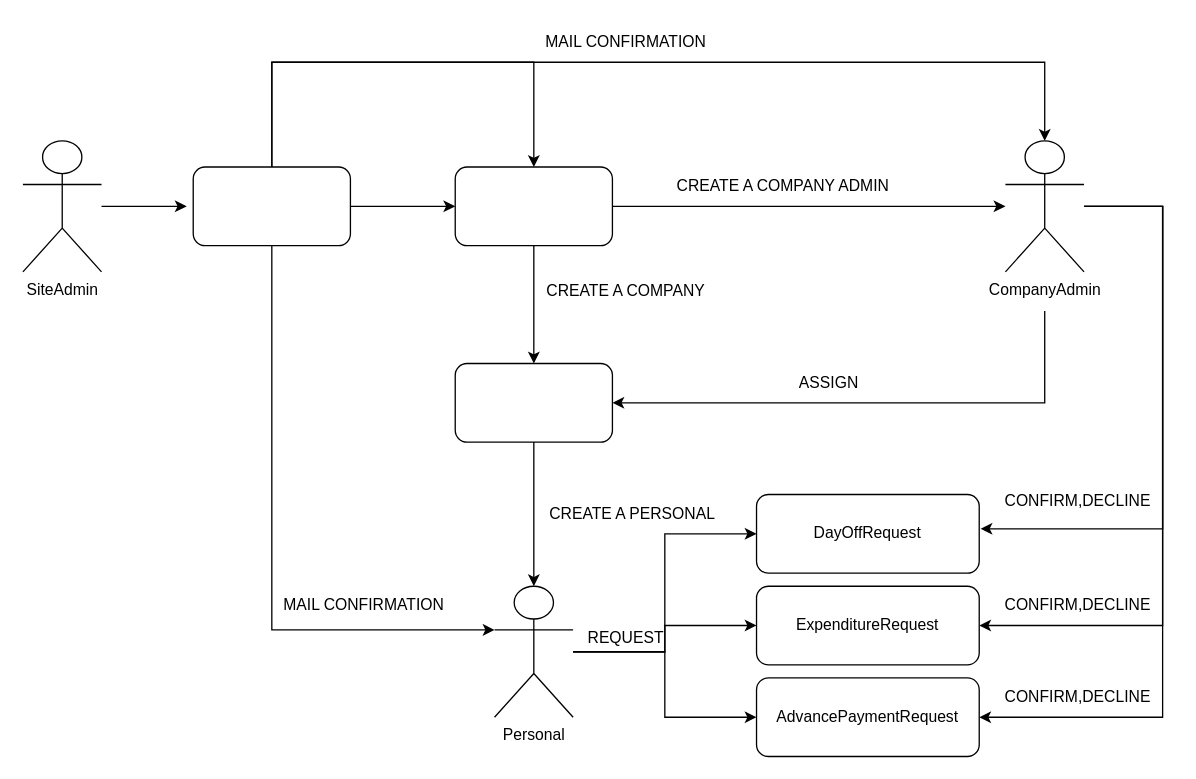
Image size: 1196x779. Some labels were removed from this diagram. The box of each missing label's shape, as (x1, y1, x2, y2) in pixels:
AUTH: (192, 166, 350, 246)
COMPANY: (454, 362, 612, 442)
LOGIN: (454, 166, 612, 246)
